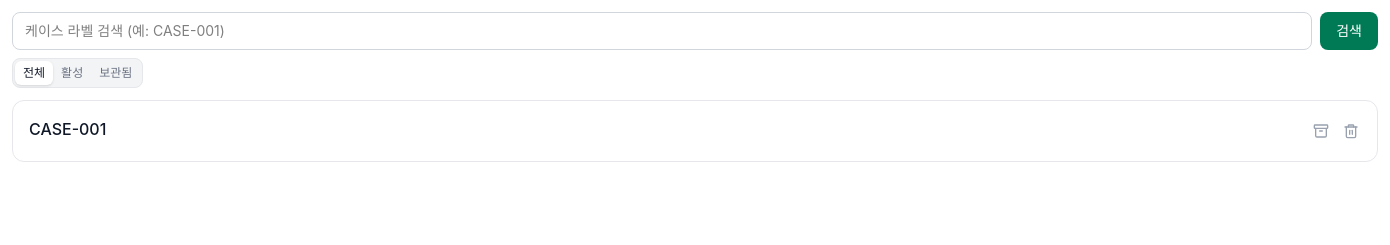
Test case: 환자 목록 삭제 액션 › 삭제 버튼은 확인을 먼저 띄우고, 대화까지 지워지는 범위를 밝힌다
The width and height of the screenshot is (1390, 245).
Click the button named "CASE-001 삭제" at (1351, 131), box [1337,117,1365,145]
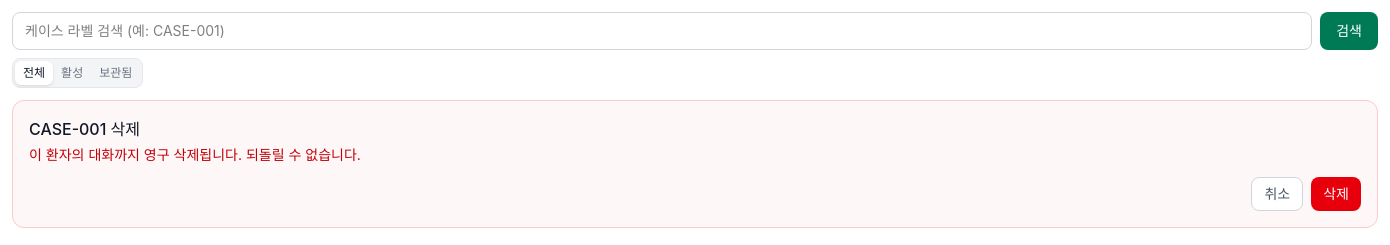
Expected: the text "이 환자의 대화까지 영구 삭제됩니다. 되돌릴 수 없습니다." is shown, [29,146,361,163]
